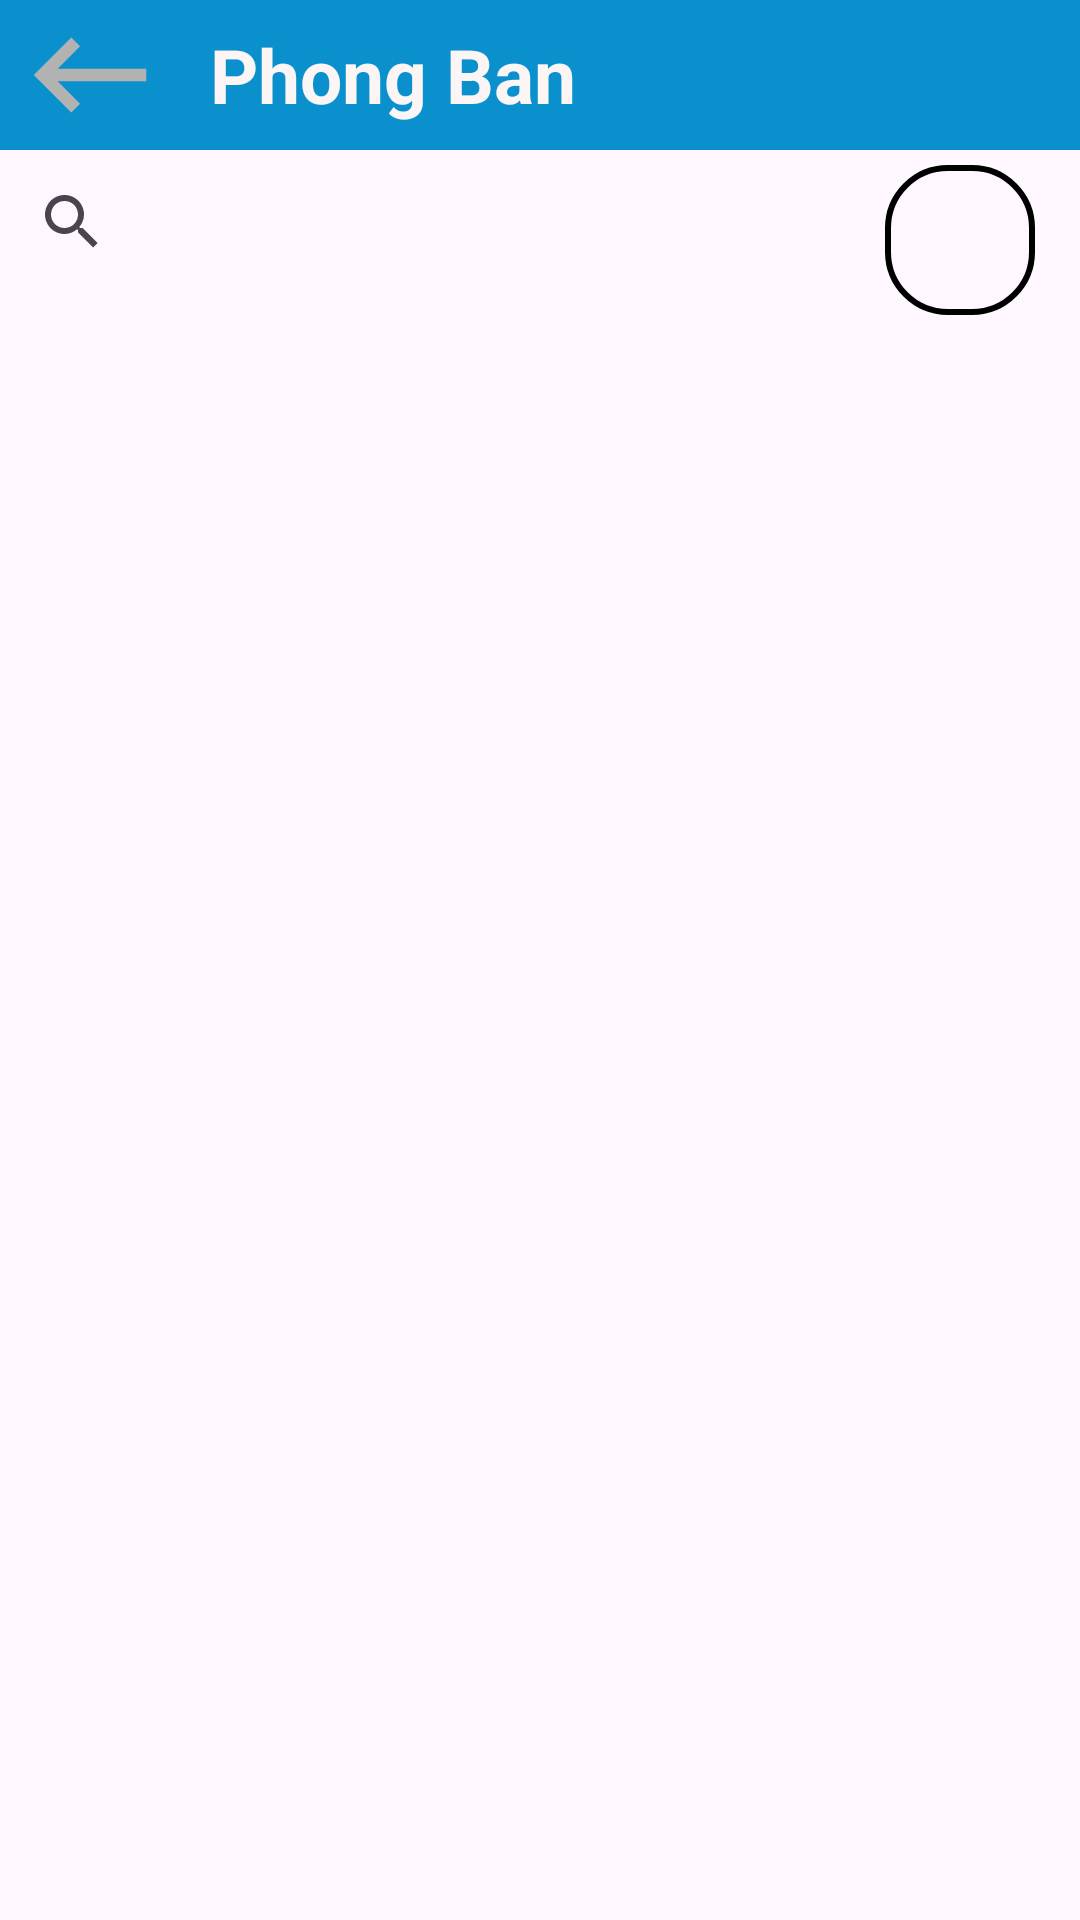

Icon click points for this 1080px x 1920px phone screenshot, format [x,y]:
returner: [90,75]
